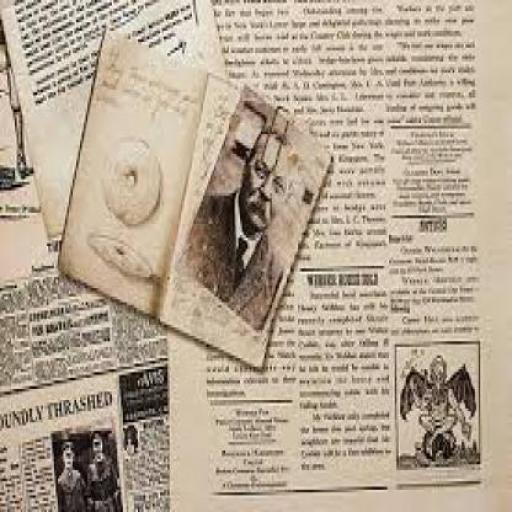paper: (168, 0, 510, 510), (54, 26, 334, 372), (0, 0, 228, 241), (0, 238, 170, 509), (173, 81, 328, 330)
